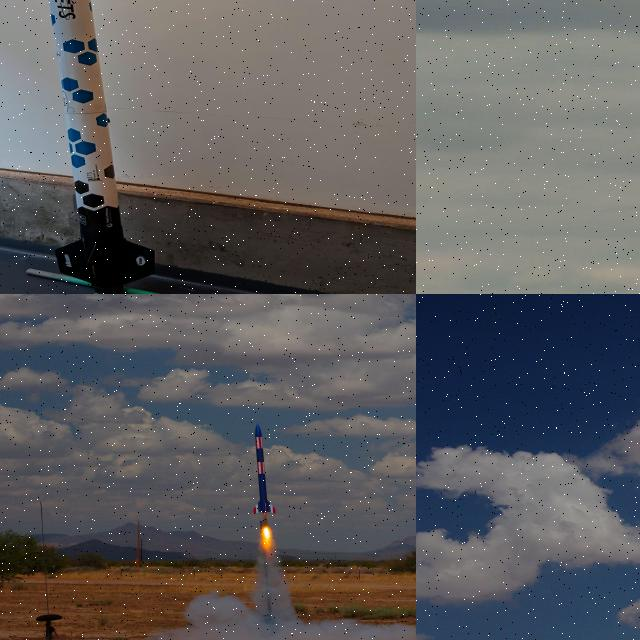Rocket: (48, 0, 155, 294), (253, 423, 276, 515)
